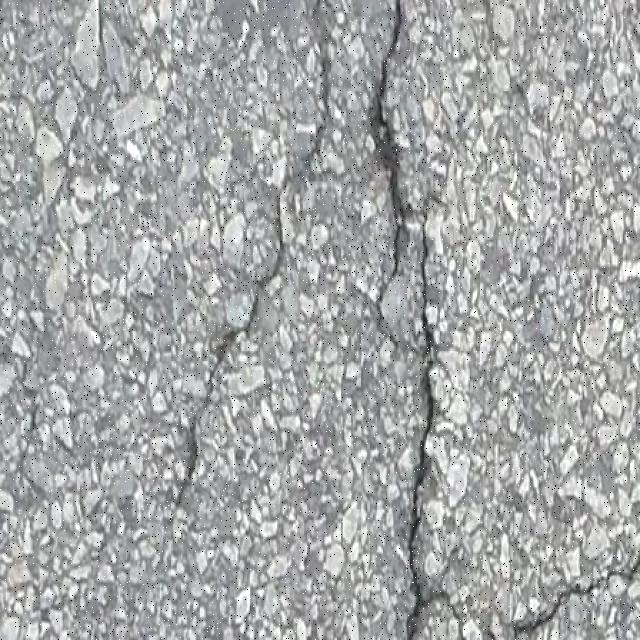Crack: (369, 0, 466, 639), (200, 44, 329, 414), (509, 553, 640, 639), (176, 416, 198, 499), (312, 0, 319, 19)
